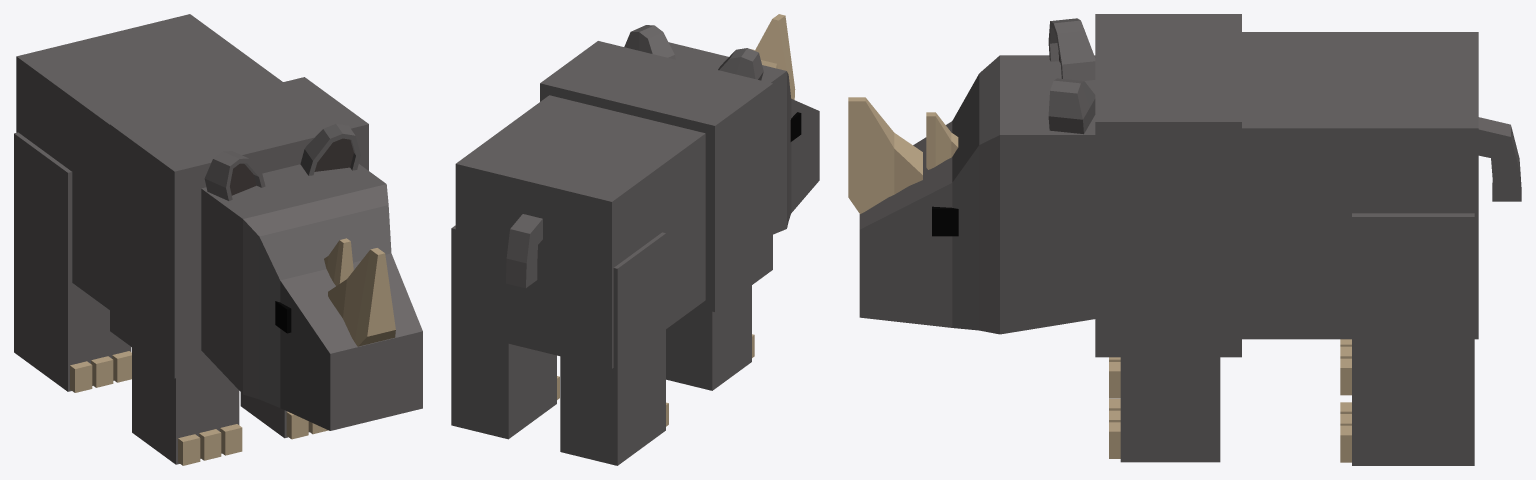
The model's file is Badak (Asli).fbx.
3 renders of one model, left to right at view 1: azimuth 30°, elevation 25°; view 2: azimuth 150°, elevation 25°; view 3: azimuth 270°, elevation 25°, orthographic. The views are drawn at different scales.
Parts seen in each view (by area): view 1: Rhino; view 2: Rhino; view 3: Rhino.
Part boxes in pixels (bbox=[...]): Rhino: bbox=[14, 14, 422, 465]; Rhino: bbox=[451, 14, 819, 465]; Rhino: bbox=[848, 14, 1521, 465].
Size of the model in its own units: 101 by 159 by 267.
